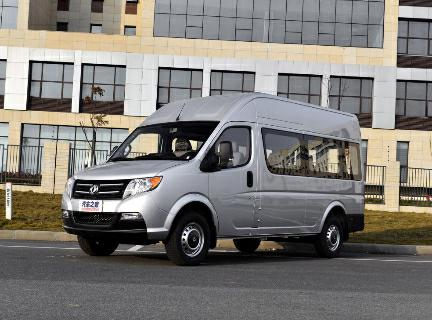东风-御风: (56, 91, 371, 265)
